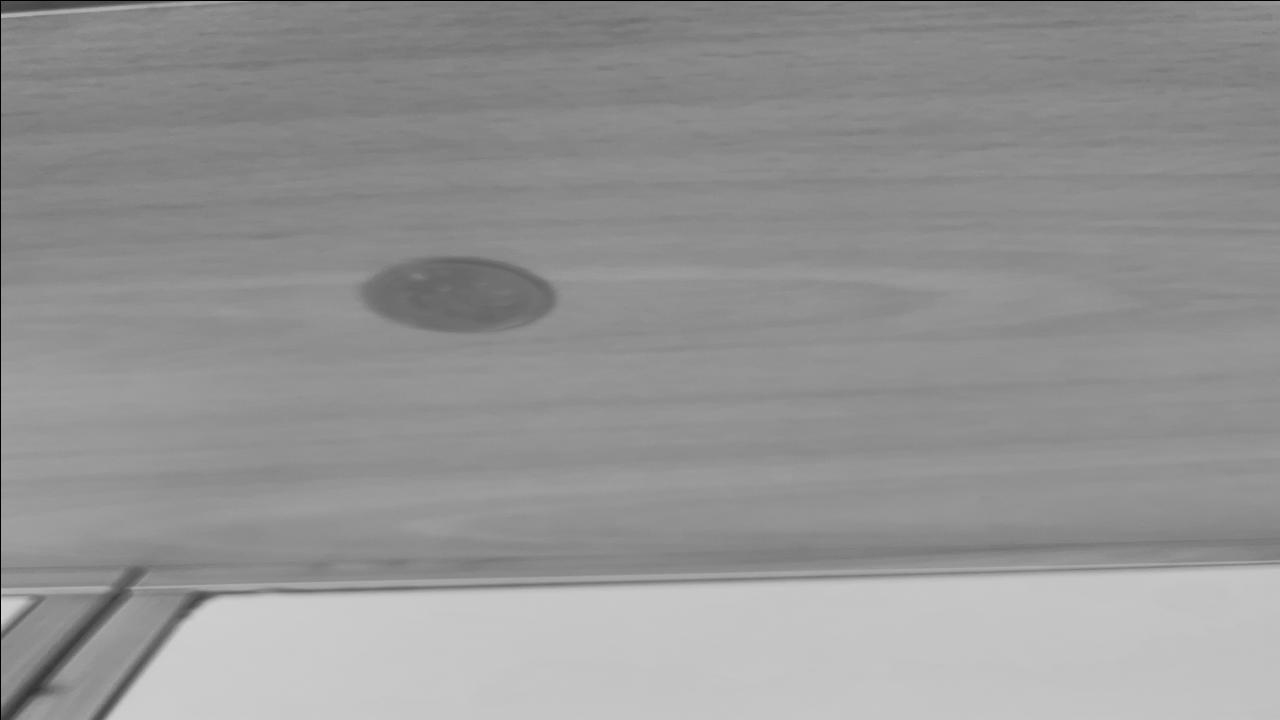coin: (358, 257, 552, 333)
